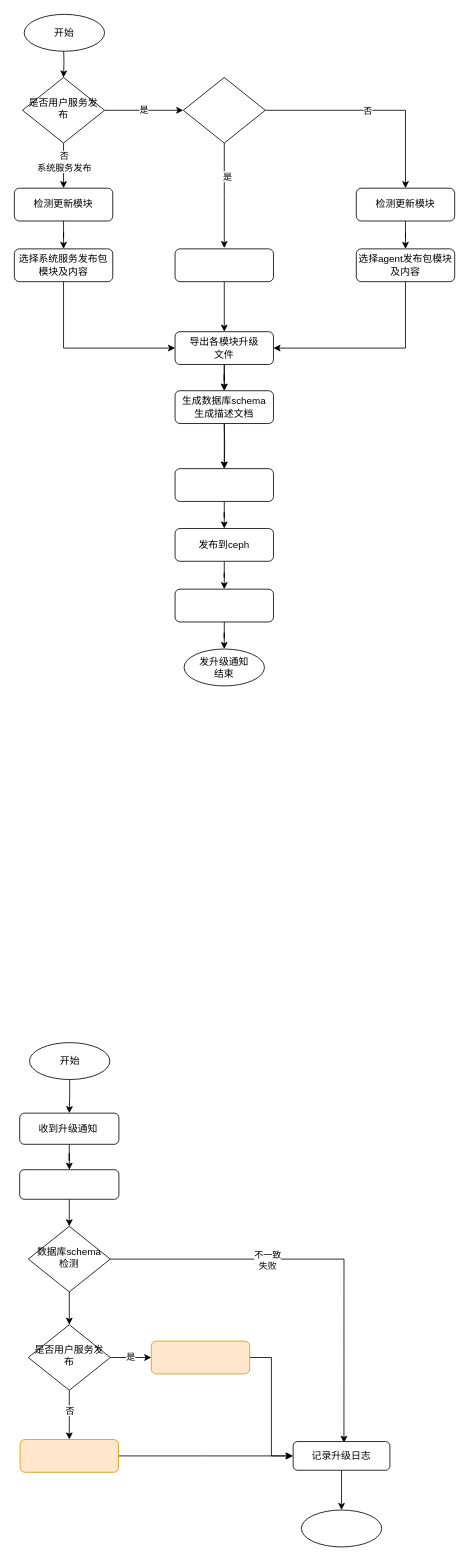
Image size: 469x1561. Some labels were removed from this diagram. The centre of each missing label's shape, as x and y in pixels:
"下载解压升级包" belongs at (69,1184).
"压缩成发布包" belongs at (223,484).
"是否agent整体发布" belongs at (223,110).
"用户服务分模块更新" belongs at (200,1357).
"系统服务分模块更新" belongs at (68,1455).
"结束" belongs at (341,1528).
"记录发布日志" belongs at (223,605).
"选择agent所有模块" belongs at (223,265).
